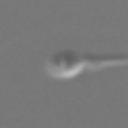normal: (85, 46, 128, 74)
